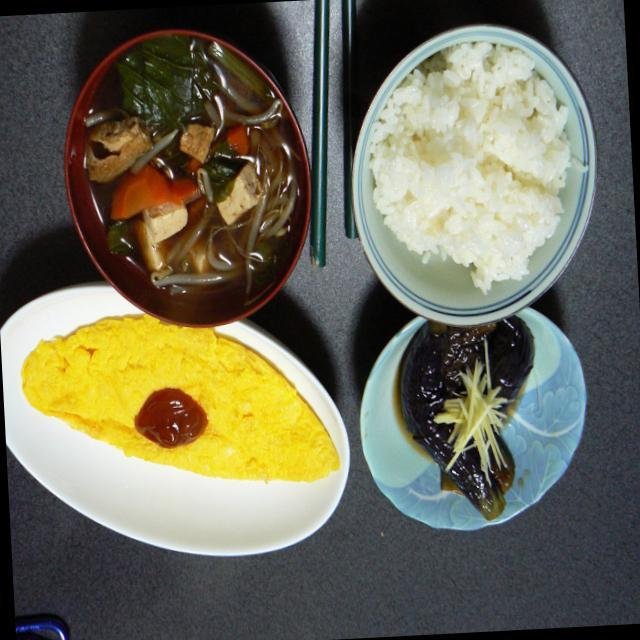Omelet: (14, 304, 356, 522)
Rice: (354, 28, 600, 310)
